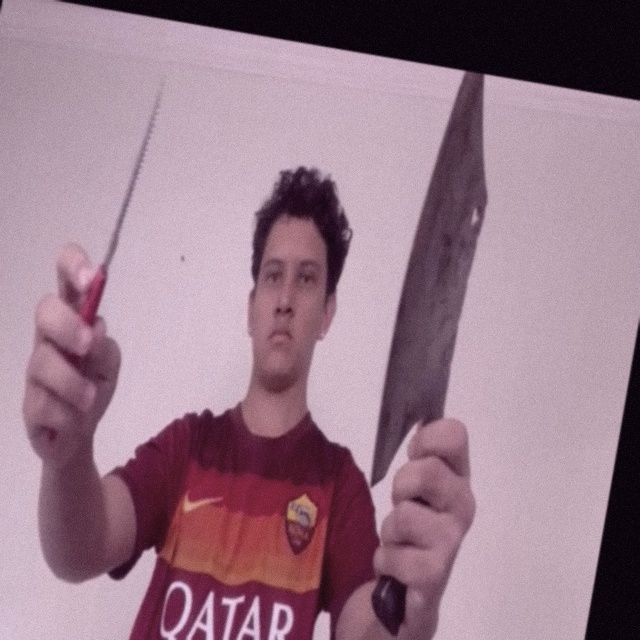Sharp-Object: (365, 66, 512, 502), (102, 68, 167, 276)
